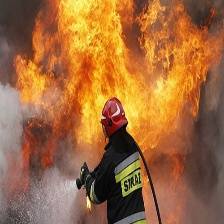fire: (13, 2, 214, 167)
smoke: (1, 79, 27, 173)
